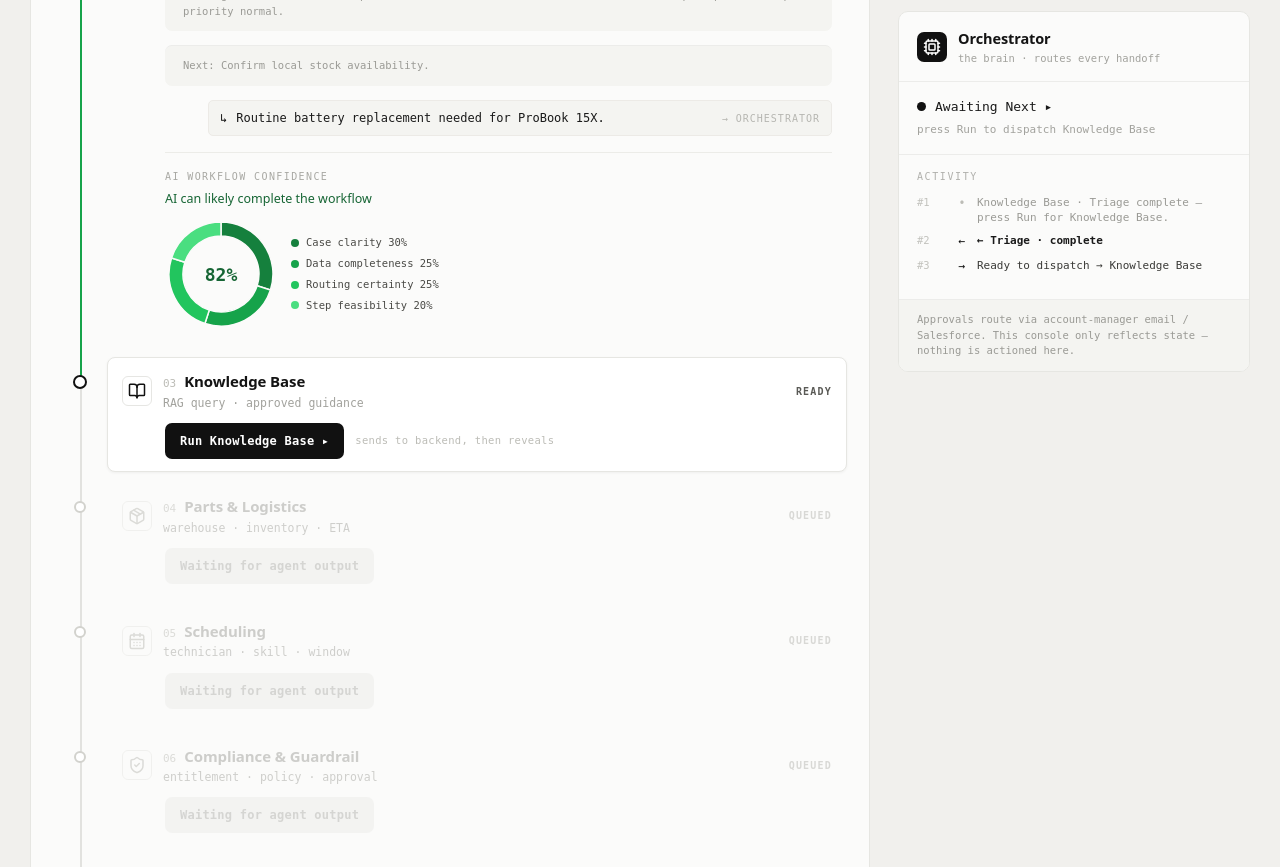
Test case: SteppedOrchestrationView — Phase 2 (real stepped run) › shows an error message when /advance returns a non-ok status
This screenshot has width=1280, height=867.
(page scrolled)
What coordinates should you click on to do the following:
click the button "Run Knowledge Base ▸"
I would click on:
 (255, 441)
Its box is [165,423,344,459].
(page scrolled)
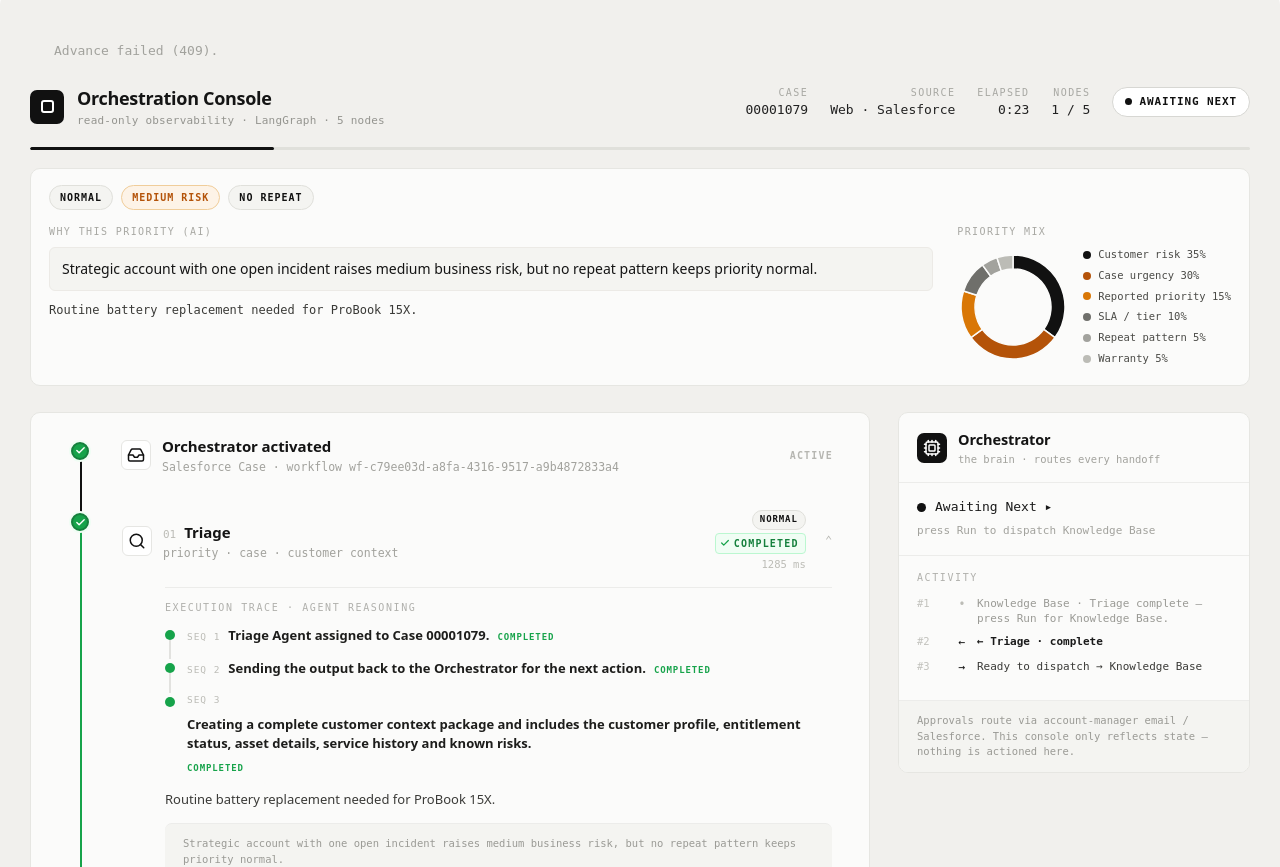
Check: the message shows "Advance failed", box [54,43,218,58]
